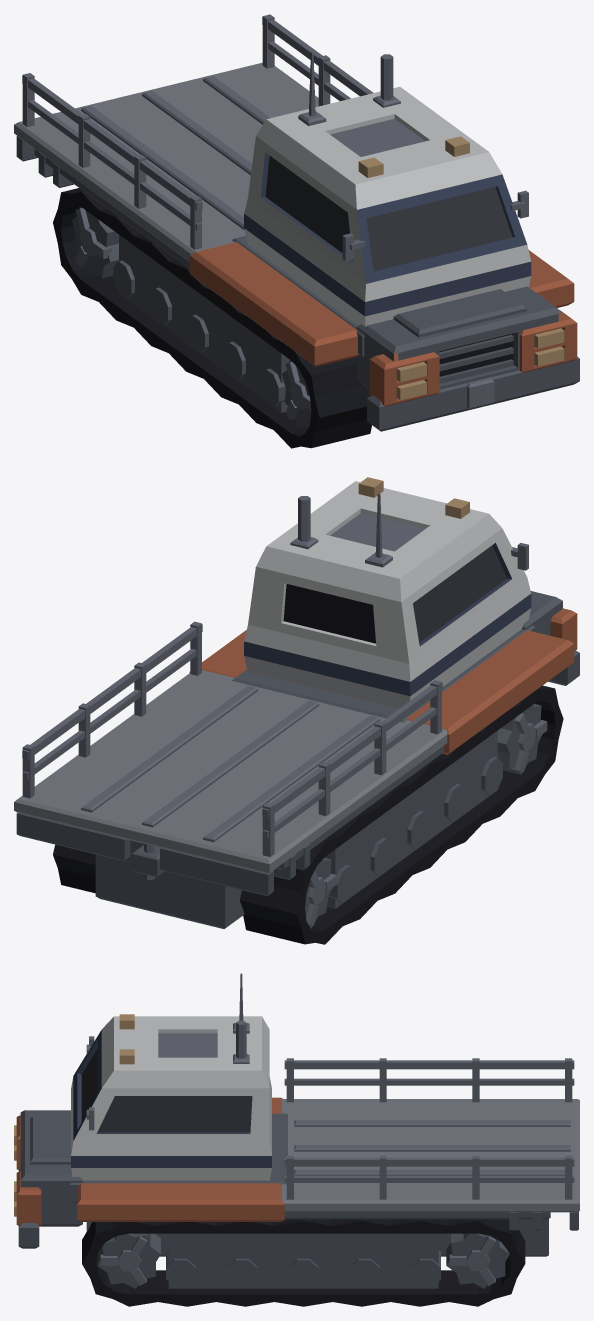
File: tracked-crawler-a7c5ff.glb
3 views of the same model, one above another, from view 1: azimuth 30°, elevation 25°; view 2: azimuth 150°, elevation 25°; view 3: azimuth 270°, elevation 25° (orthographic). The views are drawn at different scales.
Visible parts, largest first — view 1: crawler-body, wheel-rl-mesh, mast-mesh, wheel-fl-mesh; view 2: crawler-body, wheel-fl-mesh, mast-mesh, wheel-rl-mesh; view 3: crawler-body, wheel-fr-mesh, wheel-rr-mesh, mast-mesh.
Part boxes in pixels (box(x1,y1,x2,y2)): crawler-body: box(14, 14, 579, 448); wheel-rl-mesh: box(72, 206, 118, 278); mast-mesh: box(298, 52, 400, 125); wheel-fl-mesh: box(282, 360, 311, 427); crawler-body: box(14, 477, 579, 944); wheel-fl-mesh: box(497, 704, 547, 774); mast-mesh: box(290, 493, 392, 567); wheel-rl-mesh: box(305, 857, 337, 928); crawler-body: box(14, 1014, 579, 1306); wheel-fr-mesh: box(97, 1233, 160, 1288); wheel-rr-mesh: box(446, 1233, 509, 1288); mast-mesh: box(233, 973, 249, 1063).
Size of the model in its own units: 2.64 by 3.16 by 6.
